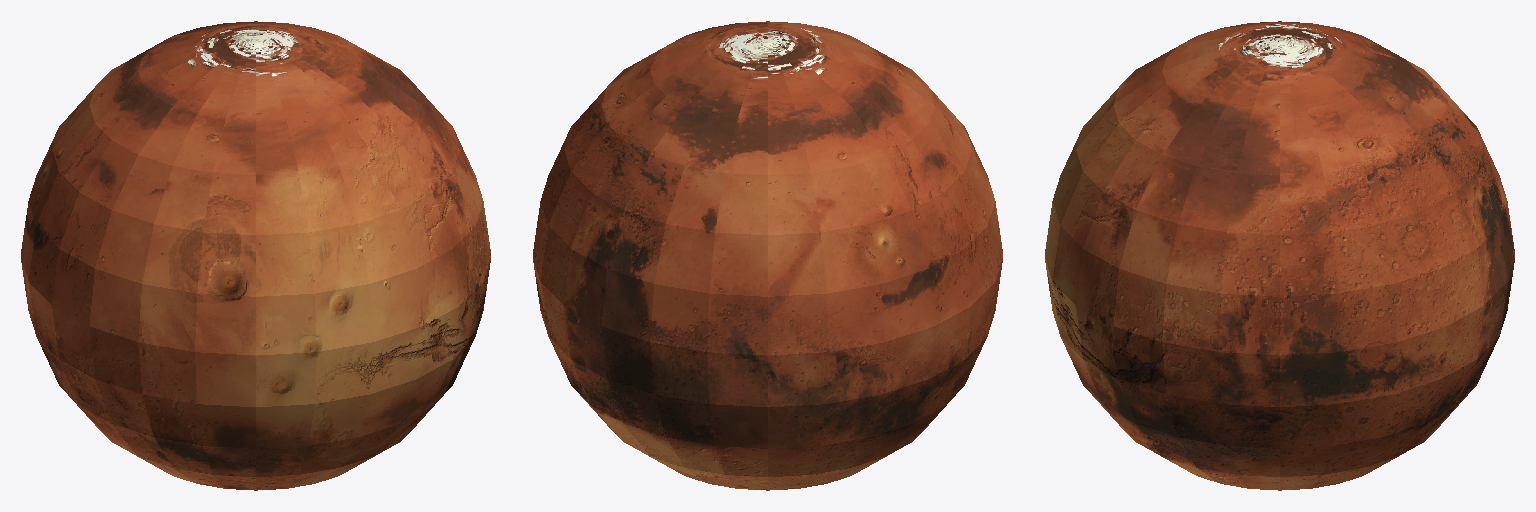
3 renders of one model, left to right at view 1: azimuth 30°, elevation 25°; view 2: azimuth 150°, elevation 25°; view 3: azimuth 270°, elevation 25°, orthographic.
Parts seen in each view (by area): view 1: Mesh1 ntitled1 Model; view 2: Mesh1 ntitled1 Model; view 3: Mesh1 ntitled1 Model.
Part boxes in pixels (left/top/right/bottom): Mesh1 ntitled1 Model: left=21, top=21, right=490, bottom=490; Mesh1 ntitled1 Model: left=533, top=21, right=1002, bottom=490; Mesh1 ntitled1 Model: left=1045, top=21, right=1514, bottom=490.
Bounding box in the file's own units: 2.75 × 2.75 × 2.75.
1 materials, 1 textured.